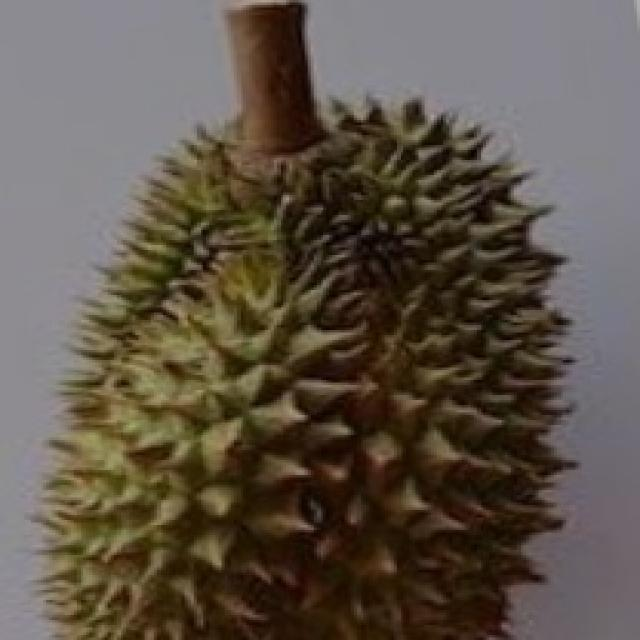fruit: (0, 250, 388, 640), (259, 230, 606, 640)
